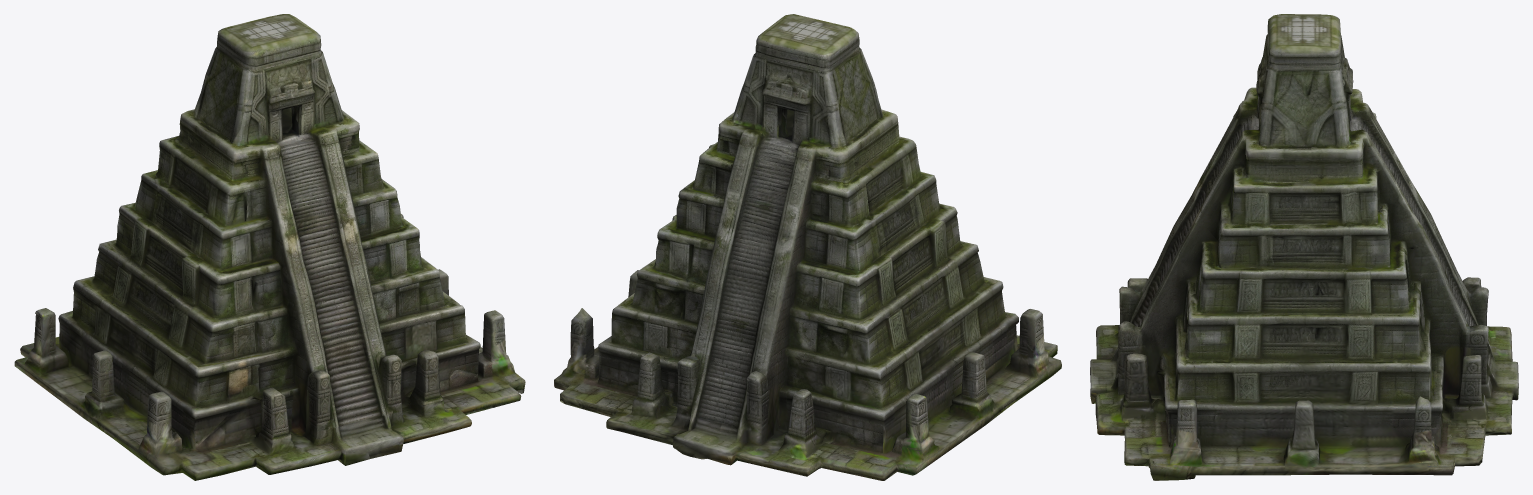
Rendered from temple_stone.glb.
3 renders of one model, left to right at view 1: azimuth 30°, elevation 25°; view 2: azimuth 150°, elevation 25°; view 3: azimuth 270°, elevation 25°, orthographic. The views are drawn at different scales.
Size of the model in its own units: 2 by 1.86 by 2.
Materials: 1 (1 with a texture image).
